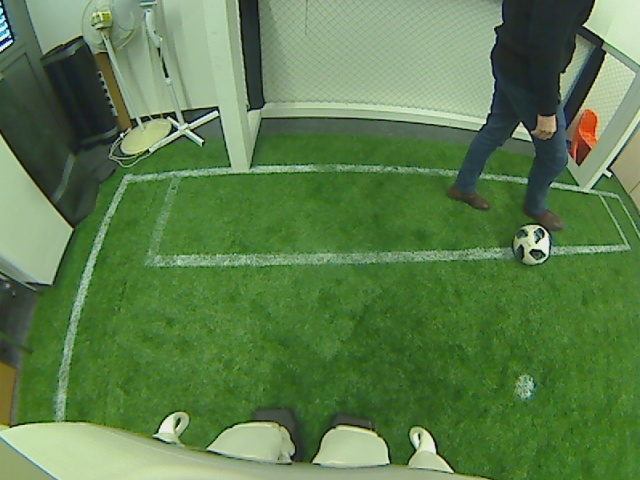ball: (507, 223, 552, 265)
